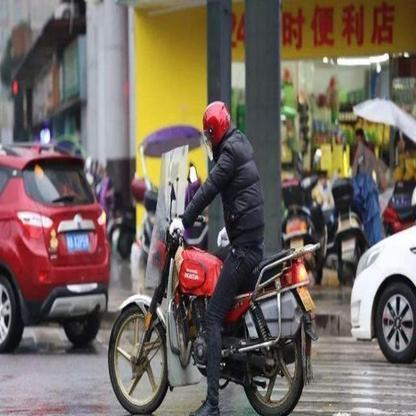target: (103, 98, 322, 413)
